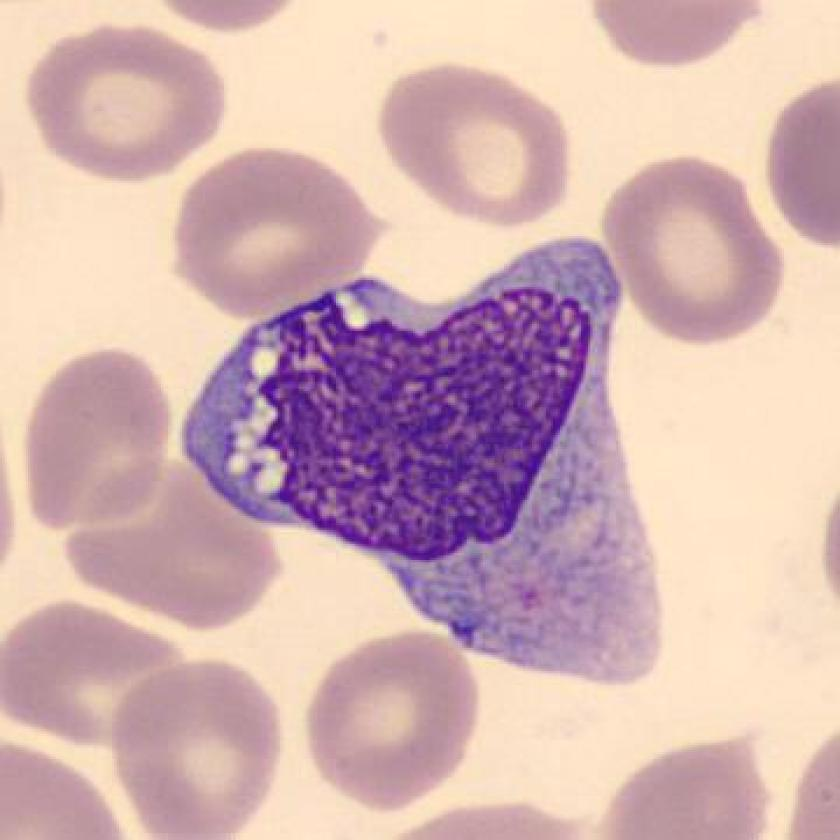monocyte: (169, 216, 692, 705)
